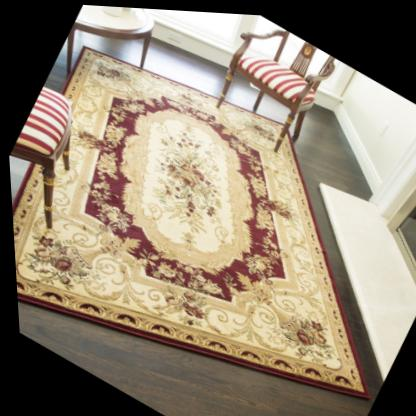Carpet: (10, 46, 364, 394)
